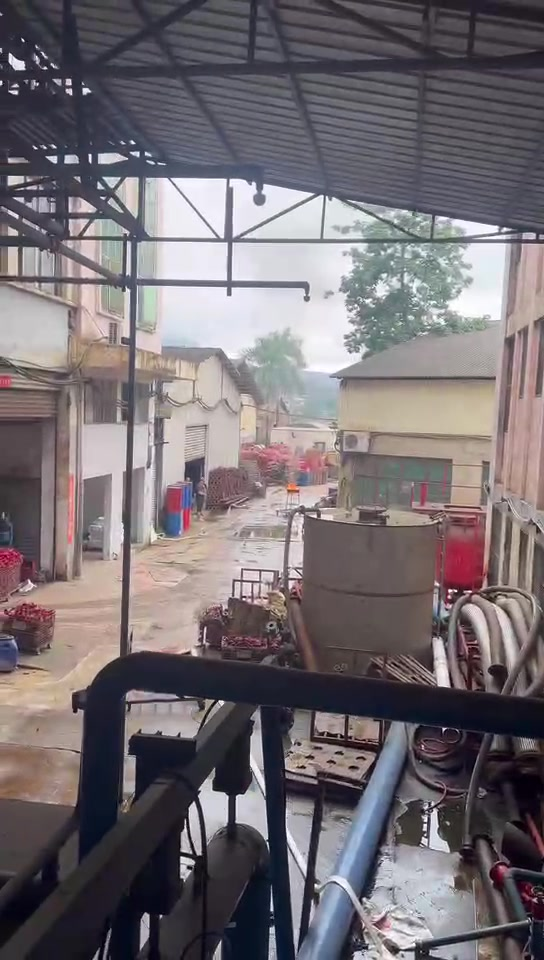fire: (287, 482, 299, 490)
